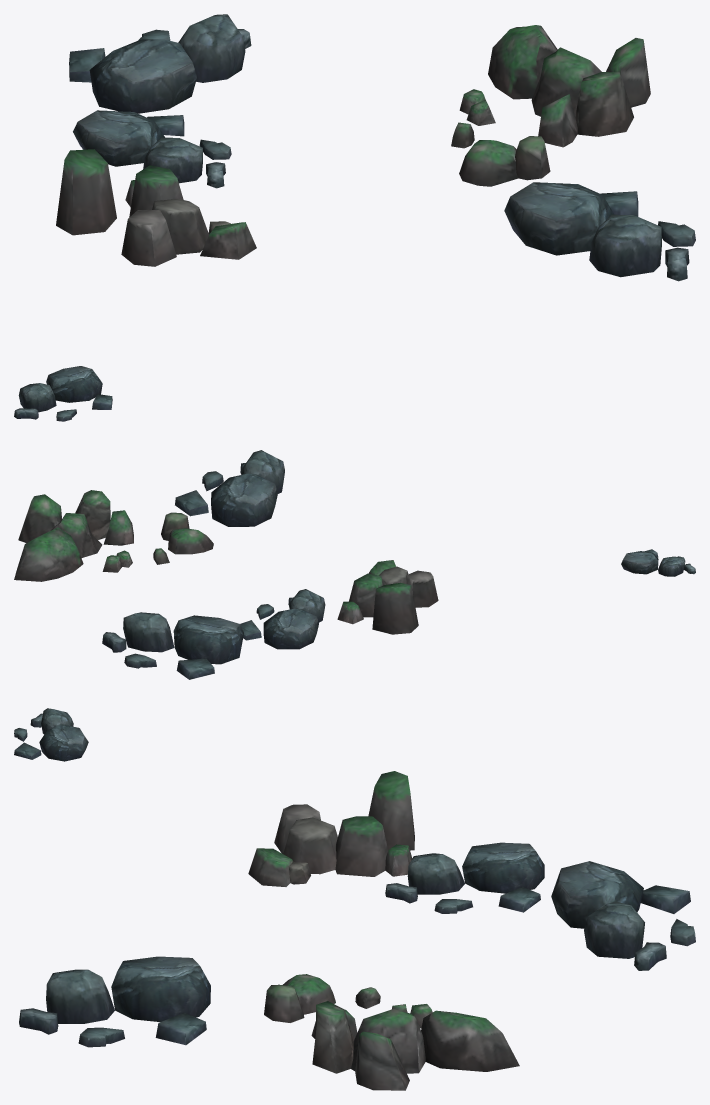
File: Area_07_11.fbx
3 views of the same model, one above another, from view 1: azimuth 30°, elevation 25°; view 2: azimuth 150°, elevation 25°; view 3: azimuth 270°, elevation 25° (orthographic). The views are drawn at different scales.
Visible parts, largest first — view 1: Area_07_11; view 2: Area_07_11; view 3: Area_07_11.
Part boxes in pixels (box(x1,y1,x2,y2)): Area_07_11: box(14, 14, 695, 421); Area_07_11: box(14, 450, 695, 679); Area_07_11: box(14, 708, 695, 1090).
Size of the model in its own units: 4668 by 402 by 3669.
